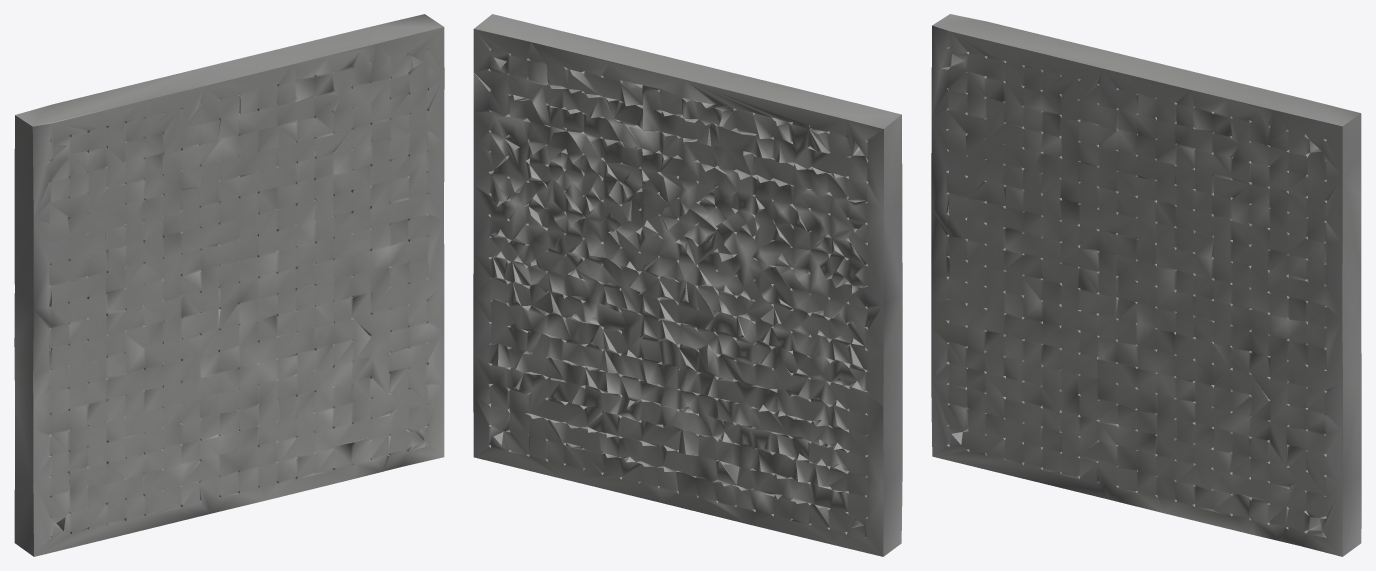
Rendered from finish_pegboard_idle.glb.
3 views of the same model, side by side, from view 1: azimuth 30°, elevation 25°; view 2: azimuth 150°, elevation 25°; view 3: azimuth 330°, elevation 25° (orthographic).
Visible parts, largest first — view 1: tripo_node_e157649e-c2fe-4115-ba59-8cef3f48171b; view 2: tripo_node_e157649e-c2fe-4115-ba59-8cef3f48171b; view 3: tripo_node_e157649e-c2fe-4115-ba59-8cef3f48171b.
Part boxes in pixels (<box>): tripo_node_e157649e-c2fe-4115-ba59-8cef3f48171b: <box>14,14,444,556</box>; tripo_node_e157649e-c2fe-4115-ba59-8cef3f48171b: <box>473,14,902,556</box>; tripo_node_e157649e-c2fe-4115-ba59-8cef3f48171b: <box>931,14,1361,556</box>.
Size of the model in its own units: 0.999 by 0.9991 by 0.1045.
1 material, 1 textured.
